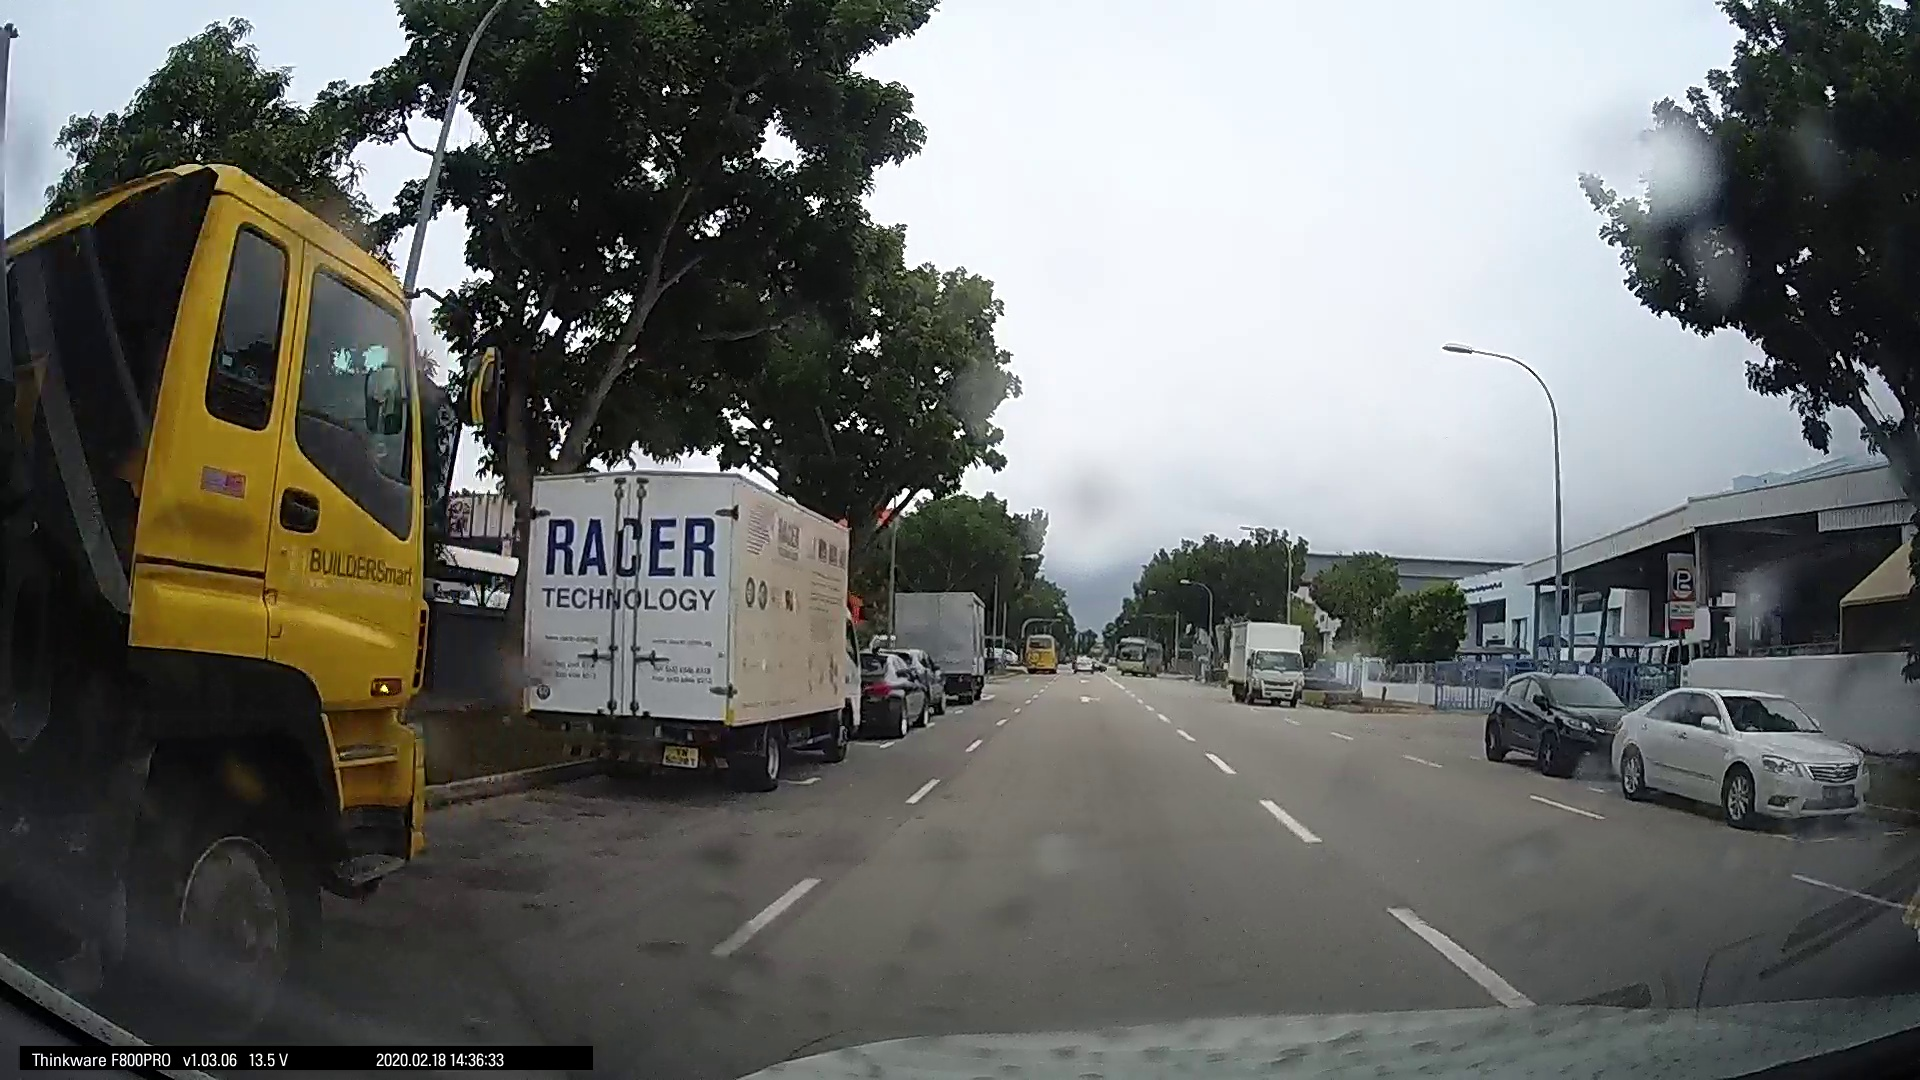Heavy Vehicle: (1, 138, 444, 1005), (508, 467, 862, 793), (880, 578, 988, 707), (1224, 621, 1305, 707)
Light Vehicle: (1605, 678, 1876, 829), (1477, 661, 1630, 775), (849, 637, 930, 736)
